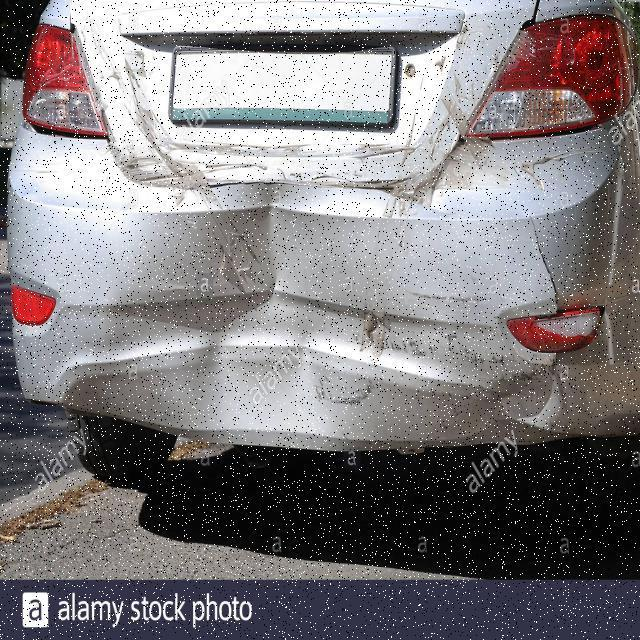rear-bumper-dent: (6, 176, 640, 453)
